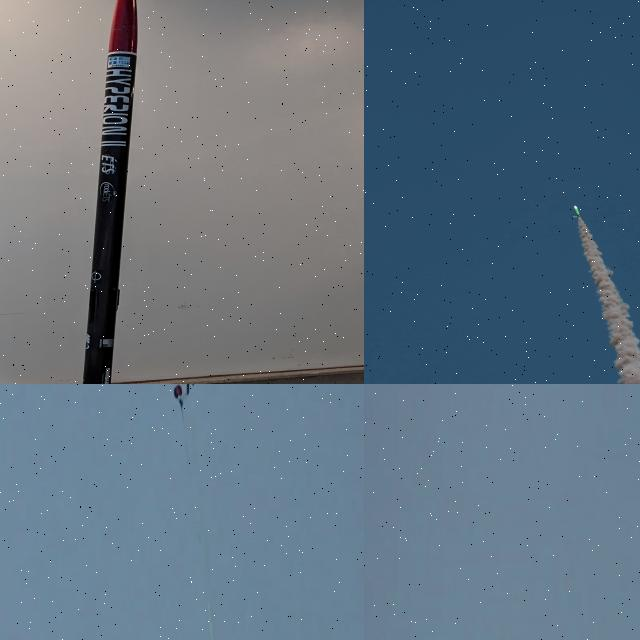Rocket: (83, 0, 138, 384), (573, 205, 582, 218), (186, 384, 189, 395)
